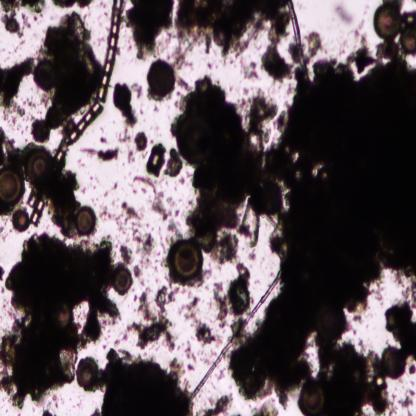Background material: (269, 37, 416, 383), (0, 232, 116, 410), (176, 77, 280, 264), (32, 9, 102, 144), (124, 0, 286, 55), (98, 346, 194, 415), (313, 335, 391, 415), (102, 203, 160, 269), (130, 284, 180, 350), (382, 300, 416, 375), (49, 164, 79, 237), (223, 263, 253, 333), (0, 55, 33, 118), (181, 296, 222, 346), (132, 176, 180, 216), (263, 25, 293, 81), (0, 0, 45, 37), (0, 124, 39, 166), (112, 81, 138, 127), (195, 391, 235, 415), (212, 280, 228, 329), (79, 144, 120, 163), (146, 141, 166, 179), (237, 55, 259, 81), (245, 400, 280, 416), (165, 148, 184, 177), (334, 4, 355, 29), (117, 245, 136, 268), (398, 387, 415, 411), (114, 323, 130, 347), (52, 1, 95, 9), (168, 216, 184, 237), (133, 130, 148, 150), (116, 128, 132, 146), (134, 264, 143, 286), (126, 146, 137, 164), (131, 82, 142, 97), (105, 185, 119, 196), (42, 408, 54, 416), (0, 264, 5, 282), (100, 134, 107, 144)
Diatom: (55, 102, 104, 164), (96, 0, 124, 103), (168, 238, 202, 284), (31, 55, 64, 92), (146, 59, 176, 99), (0, 166, 26, 208), (298, 380, 326, 416), (374, 5, 402, 40), (28, 152, 53, 185), (76, 360, 99, 392), (48, 304, 78, 328), (383, 347, 406, 377), (76, 206, 96, 236), (45, 99, 62, 128), (399, 26, 416, 54), (29, 192, 43, 226), (31, 118, 50, 142), (114, 269, 132, 293), (13, 211, 30, 232)
Microfibre: (189, 268, 282, 403), (286, 0, 309, 82)
